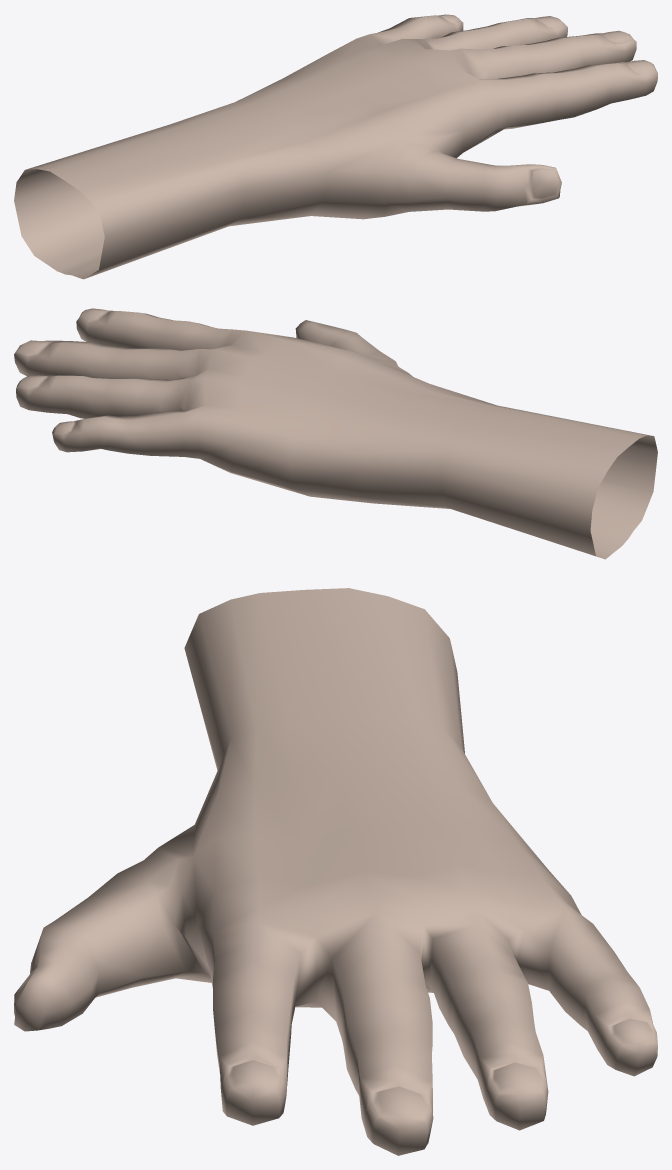
Rendered from LeftHand.dae.
The picture shows the model from 3 angles, top to bottom: view 1: azimuth 30°, elevation 25°; view 2: azimuth 150°, elevation 25°; view 3: azimuth 270°, elevation 25°; orthographic projection. The views are drawn at different scales.
Visible parts, largest first — view 1: Cube_005; view 2: Cube_005; view 3: Cube_005.
Boxes of the visible parts, bbox=[...] form: Cube_005: bbox=[14, 14, 657, 279]; Cube_005: bbox=[14, 308, 657, 559]; Cube_005: bbox=[14, 588, 657, 1155].
Size of the model in its own units: 0.2578 by 0.1397 by 0.0457.
